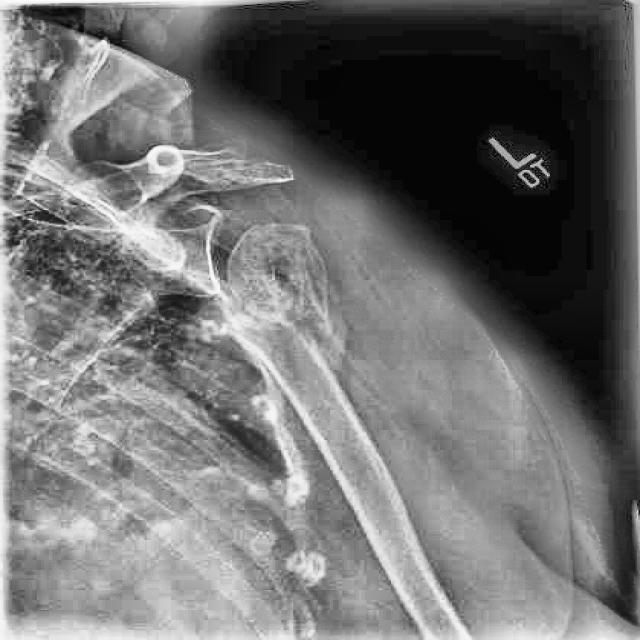shoulder fracture: (214, 280, 325, 384), (264, 203, 353, 325)
